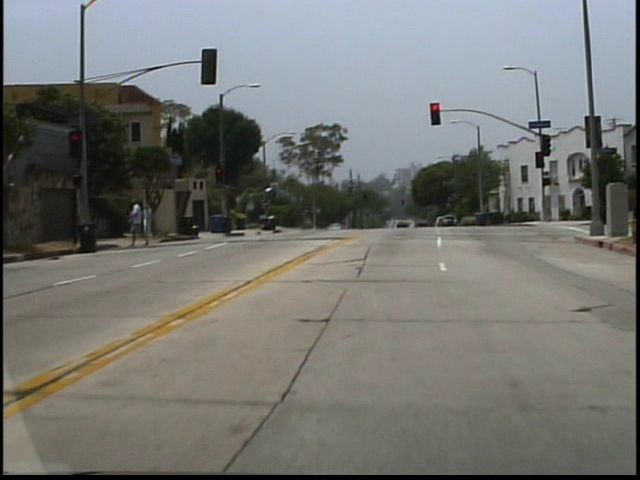person: (131, 194, 152, 246), (145, 200, 159, 246)
